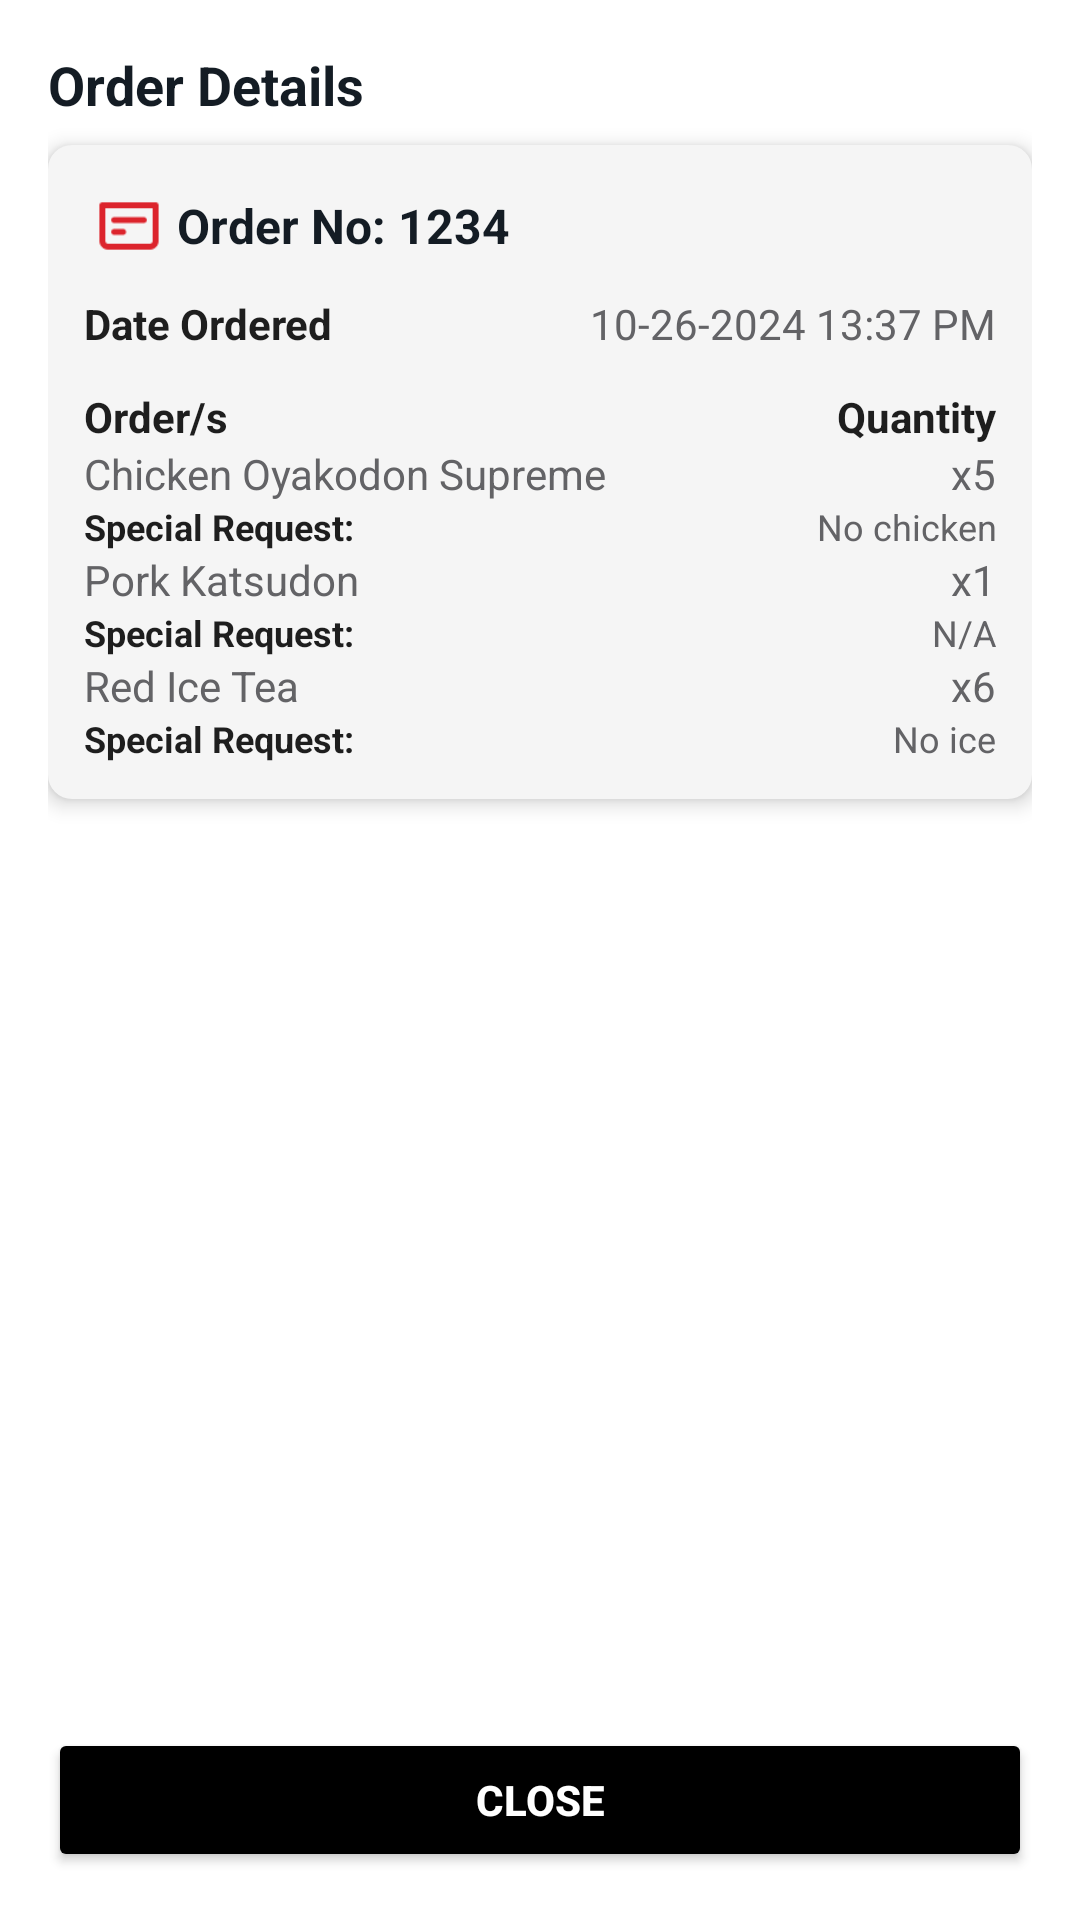

Icons on this 1080px×1920px Android screen, each with its box as (x1, y1, x2, y2):
cheque: (99, 202, 159, 250)
